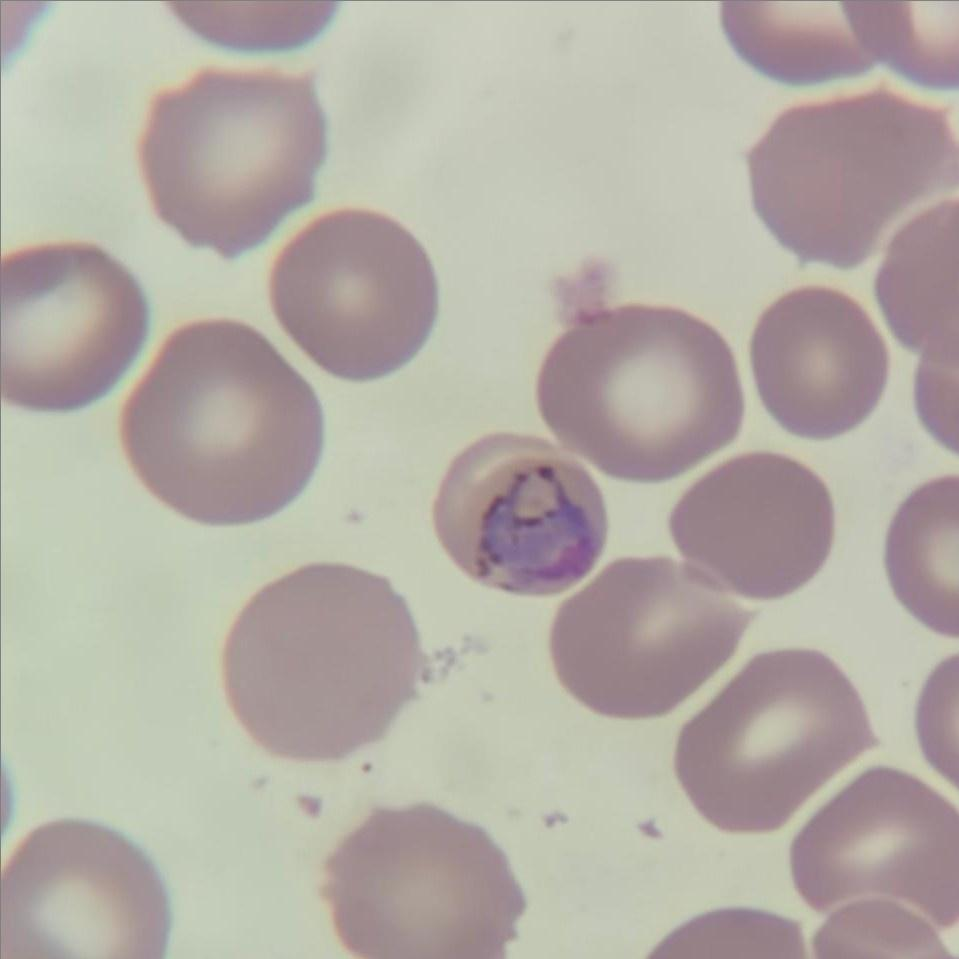Infected: (430, 431, 612, 601)
Uninfected: (125, 316, 327, 520), (222, 563, 420, 763), (745, 91, 958, 264), (137, 66, 327, 253), (540, 311, 743, 485), (677, 651, 867, 826), (550, 551, 752, 715), (332, 801, 520, 959), (270, 211, 438, 378), (788, 771, 959, 932), (0, 238, 152, 406), (672, 448, 835, 595), (0, 818, 165, 959), (758, 283, 895, 441)
